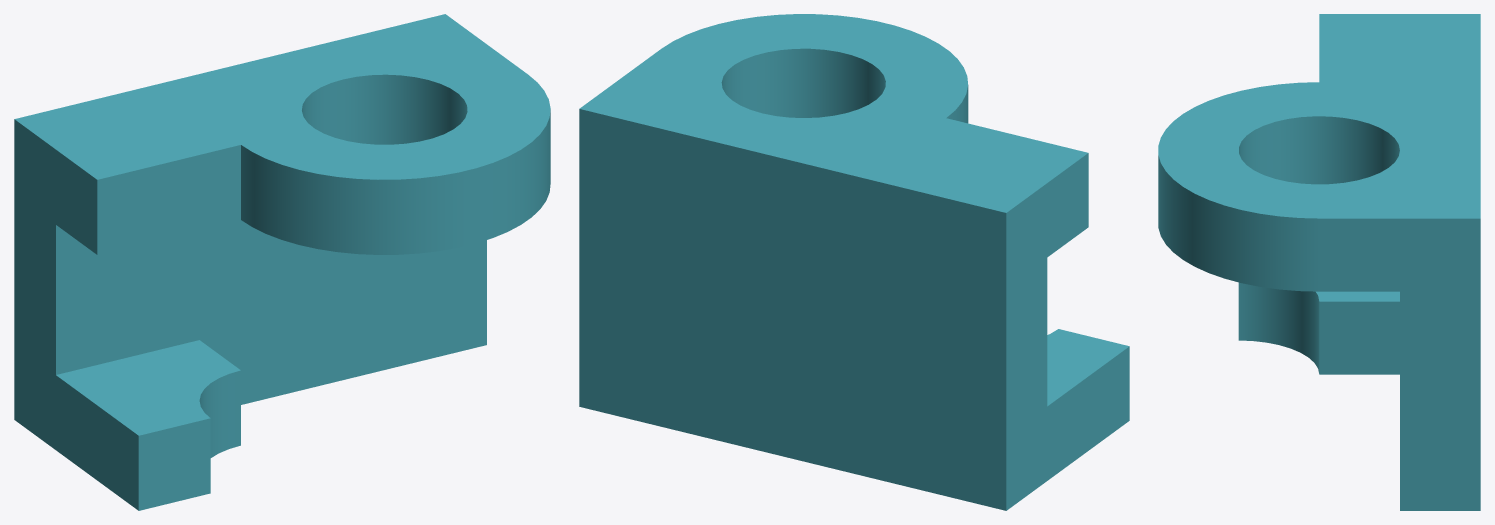
3 renders of one model, left to right at view 1: azimuth 30°, elevation 25°; view 2: azimuth 150°, elevation 25°; view 3: azimuth 270°, elevation 25°, orthographic. The views are drawn at different scales.
Visible parts, largest first — view 1: Solid1; view 2: Solid1; view 3: Solid1.
Boxes of the visible parts, bbox=[...] form: Solid1: bbox=[14, 14, 550, 510]; Solid1: bbox=[579, 14, 1129, 510]; Solid1: bbox=[1158, 14, 1480, 510].
Size of the model in its own units: 0.06 by 0.04 by 0.04.
